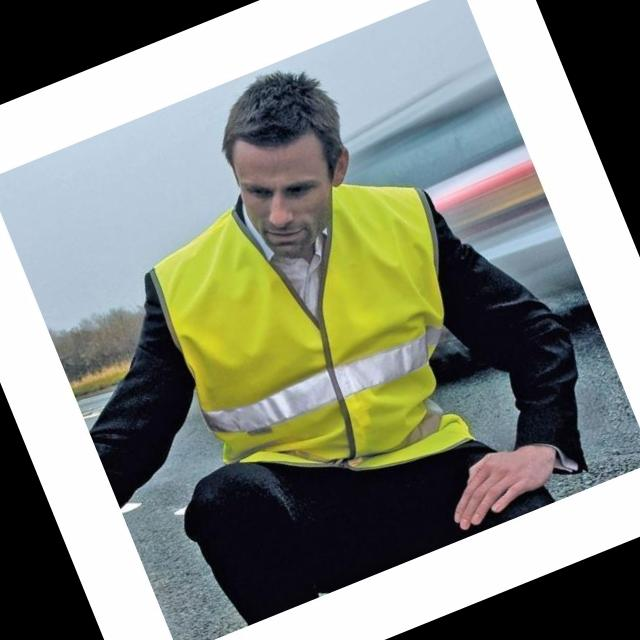safety_vest: (128, 150, 502, 520)
vehicle: (46, 22, 605, 632)
